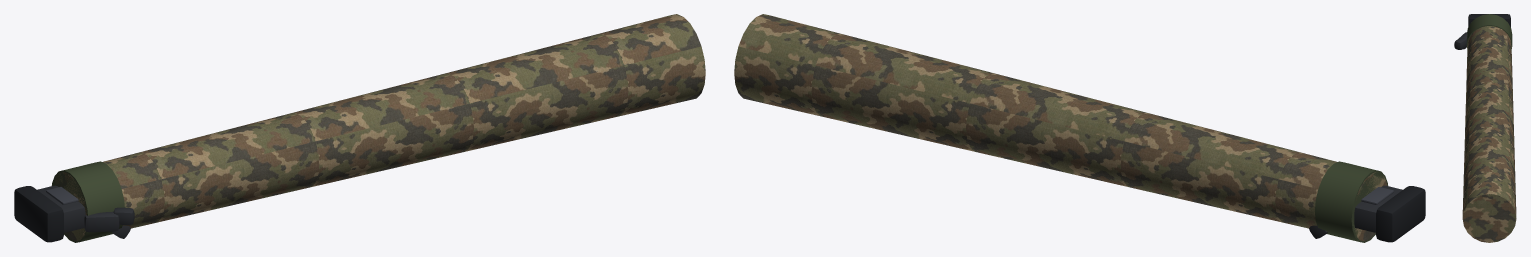
File: hands.glb
3 renders of one model, left to right at view 1: azimuth 30°, elevation 25°; view 2: azimuth 150°, elevation 25°; view 3: azimuth 270°, elevation 25°, orthographic. The views are drawn at different scales.
Parts seen in each view (by area): view 1: forearm, hand_l; view 2: forearm, hand_l; view 3: forearm, hand_l.
Part boxes in pixels (<box>): forearm: <box>51,14,705,242</box>; hand_l: <box>14,185,134,242</box>; forearm: <box>734,14,1388,242</box>; hand_l: <box>1354,185,1425,242</box>; forearm: <box>1462,14,1516,242</box>; hand_l: <box>1454,14,1510,49</box>.
Bounding box in the file's own units: 1.06 × 0.124 × 0.1426.
5 materials, 1 textured.
